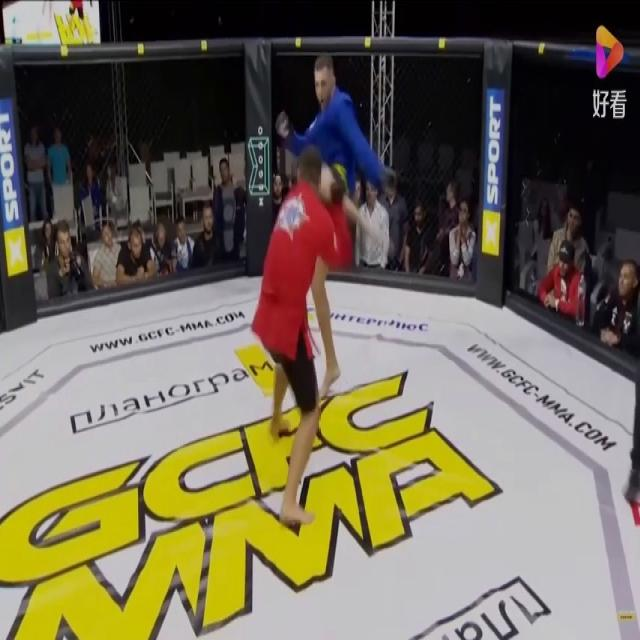fight: (245, 39, 388, 538)
